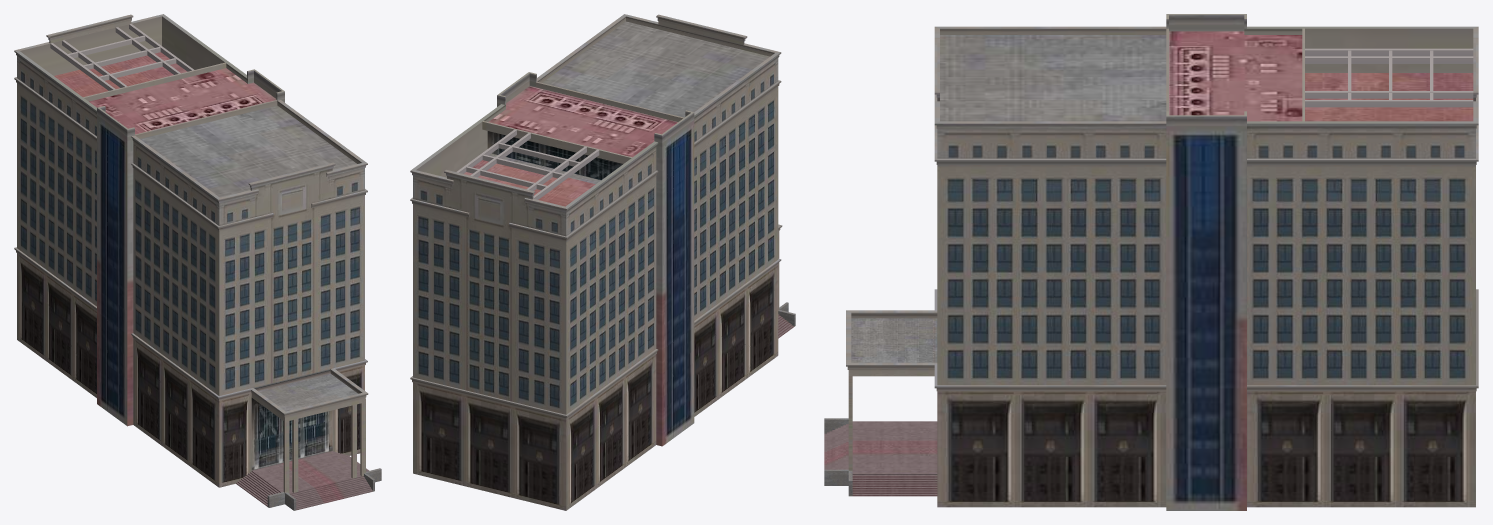
3 views of the same model, side by side, from view 1: azimuth 30°, elevation 25°; view 2: azimuth 150°, elevation 25°; view 3: azimuth 270°, elevation 25° (orthographic). The views are drawn at different scales.
Visible parts, largest first — view 1: HN707_KhoBacNhaNuocHaNoi; view 2: HN707_KhoBacNhaNuocHaNoi; view 3: HN707_KhoBacNhaNuocHaNoi.
Boxes of the visible parts, x1,y1,x2,y2 form: HN707_KhoBacNhaNuocHaNoi: (14,14,381,510); HN707_KhoBacNhaNuocHaNoi: (410,14,795,510); HN707_KhoBacNhaNuocHaNoi: (824,14,1478,510).
Bounding box in the file's own units: 27 × 48.52 × 72.9.
1 material, 1 textured.
